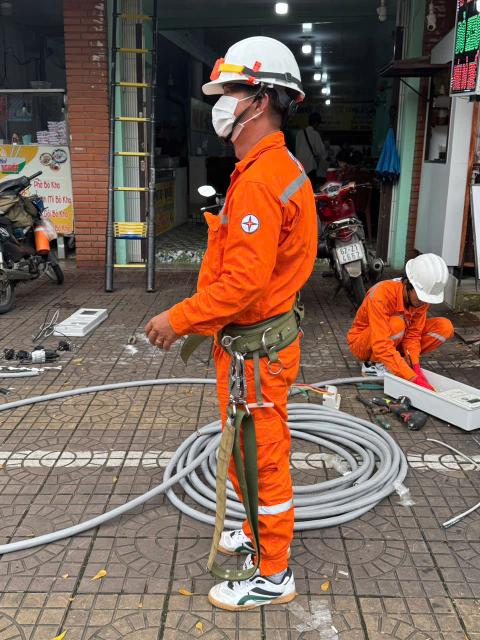gloves: (402, 356, 443, 400)
harness: (177, 297, 335, 383)
helmet: (189, 17, 318, 113), (402, 243, 459, 312)
shoes: (203, 512, 300, 563), (202, 560, 300, 606), (357, 350, 400, 393)
